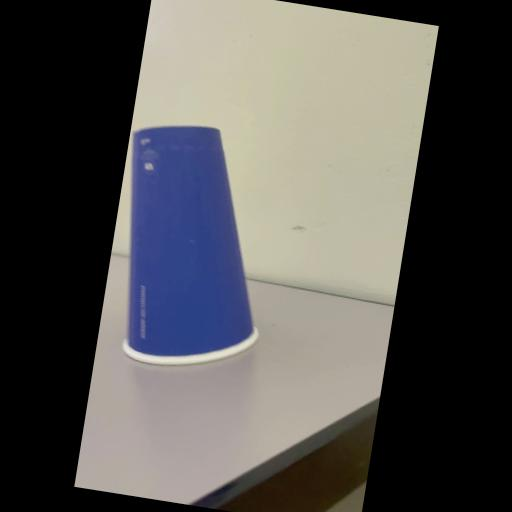lp_paper_cup: (94, 112, 293, 382)
